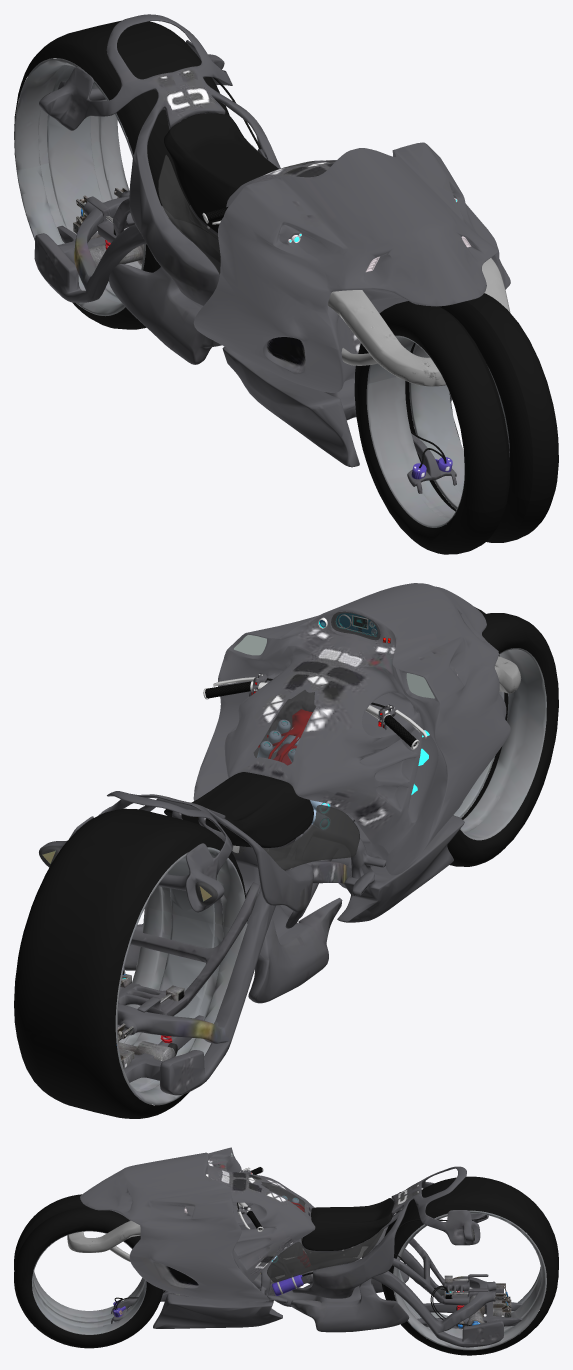
Rendered from phantom-bike.glb.
3 views of the same model, one above another, from view 1: azimuth 30°, elevation 25°; view 2: azimuth 150°, elevation 25°; view 3: azimuth 270°, elevation 25° (orthographic). The views are drawn at different scales.
Parts seen in each view (by area): view 1: Cube.028_cor_base02.004_0, Cube.001_Pneu_0, Cube.004_roda_0, Cube.002_cor_base02_0, NurbsPath.002_DefaultMaterial.001_0, Cube.021_cor_base02.003_0, Cube.007_metal02.002_0, Cube.030_metal02.003_0, Cube.014_vidro_0, Cube.022_DefaultMaterial_0, Cube.009_Cromo_0; view 2: Cube.028_cor_base02.004_0, Cube.001_Pneu_0, Cube.004_roda_0, Cube.002_cor_base02_0, Cube.021_cor_base02.003_0, Cube.007_metal02.002_0, Cube.014_vidro_0, NurbsPath.002_DefaultMaterial.001_0, Cube.027_Cromo.004_0, Cube.009_Cromo_0, Cube.023_espelho_0, Cube.011_borracha.001_0 (+2 smaller); view 3: Cube.028_cor_base02.004_0, Cube.001_Pneu_0, Cube.002_cor_base02_0, Cube.021_cor_base02.003_0, Cube.004_roda_0, Cube.007_metal02.002_0, NurbsPath.002_DefaultMaterial.001_0, Cube.014_vidro_0, Cube.030_metal02.003_0, Cube.009_Cromo_0, Cube.022_DefaultMaterial_0.
Part boxes in pixels (x1,y1,x2,y2): Cube.028_cor_base02.004_0: (193,142,510,392); Cube.001_Pneu_0: (14,20,558,554); Cube.004_roda_0: (14,58,509,527); Cube.002_cor_base02_0: (39,14,451,467); NurbsPath.002_DefaultMaterial.001_0: (164,77,446,468); Cube.021_cor_base02.003_0: (86,196,221,364); Cube.007_metal02.002_0: (34,190,356,420); Cube.030_metal02.003_0: (327,258,510,386); Cube.014_vidro_0: (42,92,314,274); Cube.022_DefaultMaterial_0: (407,433,456,493); Cube.009_Cromo_0: (73,187,145,267); Cube.028_cor_base02.004_0: (193,583,510,875); Cube.001_Pneu_0: (14,607,558,1118); Cube.004_roda_0: (115,648,546,1105); Cube.002_cor_base02_0: (39,791,464,928); Cube.021_cor_base02.003_0: (118,859,342,1016); Cube.007_metal02.002_0: (117,857,351,1095); Cube.014_vidro_0: (39,611,380,904); NurbsPath.002_DefaultMaterial.001_0: (122,678,385,974); Cube.027_Cromo.004_0: (257,709,330,824); Cube.009_Cromo_0: (116,973,184,1068); Cube.023_espelho_0: (234,635,457,698); Cube.011_borracha.001_0: (205,681,416,746); Cube.028_cor_base02.004_0: (80,1147,315,1301); Cube.001_Pneu_0: (14,1176,558,1355); Cube.002_cor_base02_0: (153,1166,488,1328); Cube.021_cor_base02.003_0: (252,1226,488,1332); Cube.004_roda_0: (32,1210,546,1350); Cube.007_metal02.002_0: (258,1239,522,1347); NurbsPath.002_DefaultMaterial.001_0: (114,1198,486,1325); Cube.014_vidro_0: (261,1182,474,1282); Cube.030_metal02.003_0: (67,1220,140,1261); Cube.009_Cromo_0: (444,1275,511,1329); Cube.022_DefaultMaterial_0: (111,1275,462,1323).
Bounding box in the file's own units: 27806 × 37062 × 95435.
30 materials, 20 textured.
